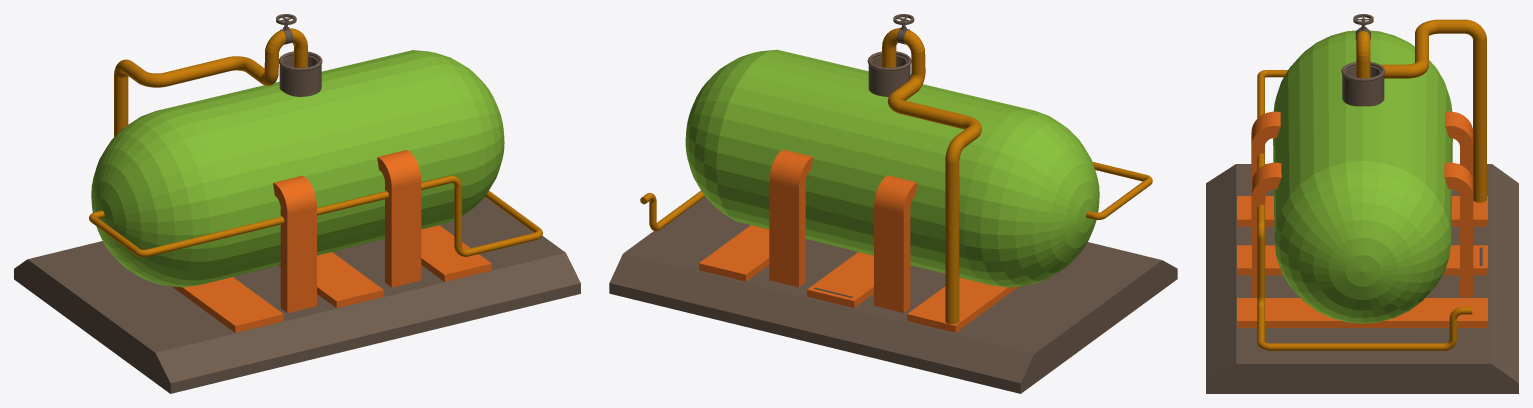
The model's file is gas_chamber.fbx.
The picture shows the model from 3 angles, left to right: view 1: azimuth 30°, elevation 25°; view 2: azimuth 150°, elevation 25°; view 3: azimuth 270°, elevation 25°; orthographic projection.
Parts seen in each view (by area): view 1: gas chamber; view 2: gas chamber; view 3: gas chamber.
Part boxes in pixels (<box>): gas chamber: <box>14,14,580,393</box>; gas chamber: <box>609,14,1177,393</box>; gas chamber: <box>1206,14,1518,393</box>.
Bounding box in the file's own units: 9.02 × 5.62 × 5.89.
